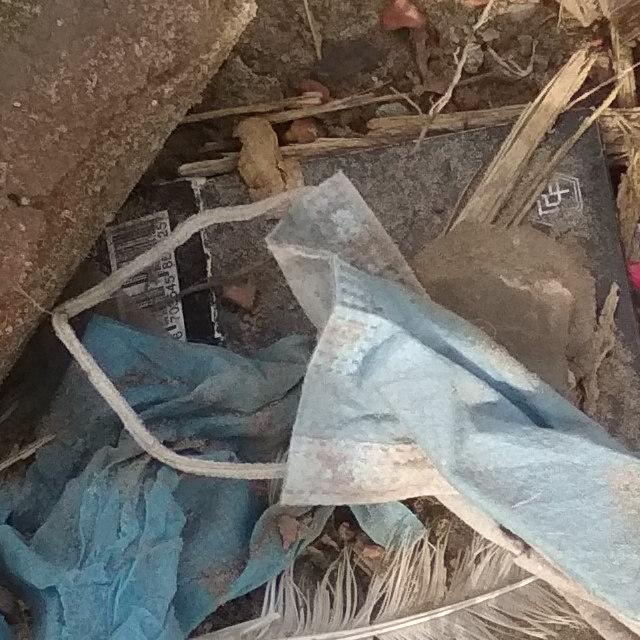paper: (20, 164, 640, 640)
